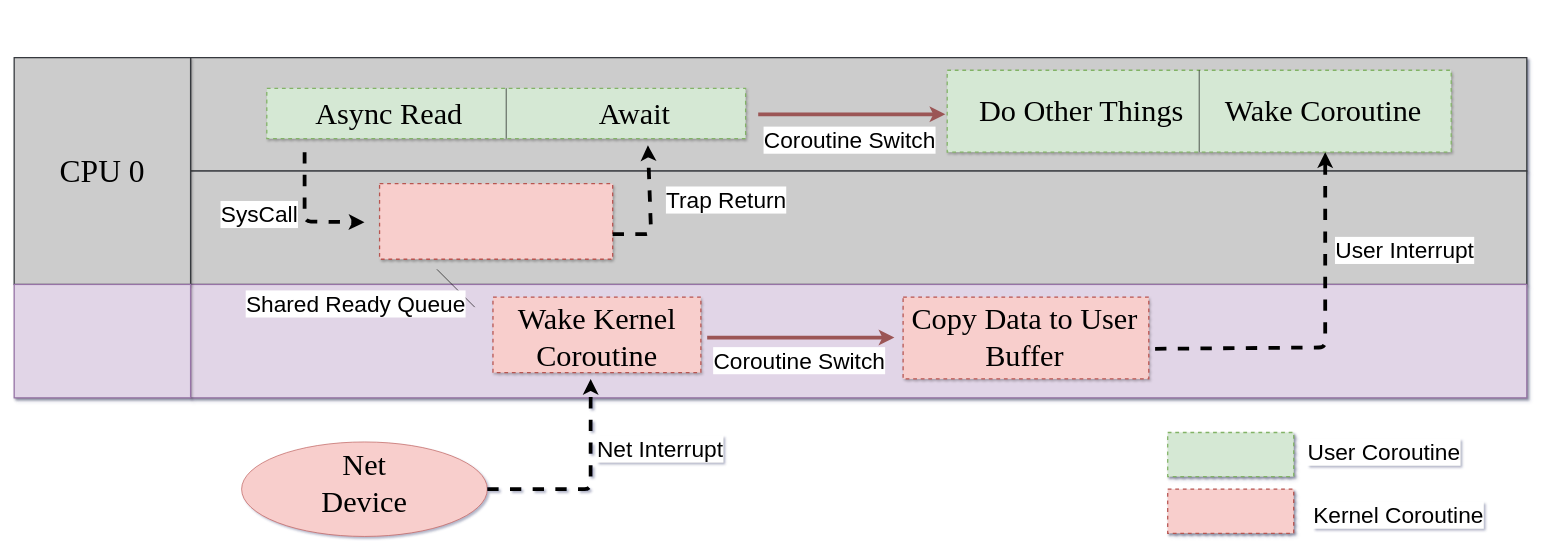
The diagram is 1557 pixels wide and 553 high, and some of its shapes have lost their labels. Here are the shapes that lost their labels. From the top down, the centre of each, then its label:
At point 496,222: "Register Kernel Coroutine".
At point 103,342: "CPU 1".
